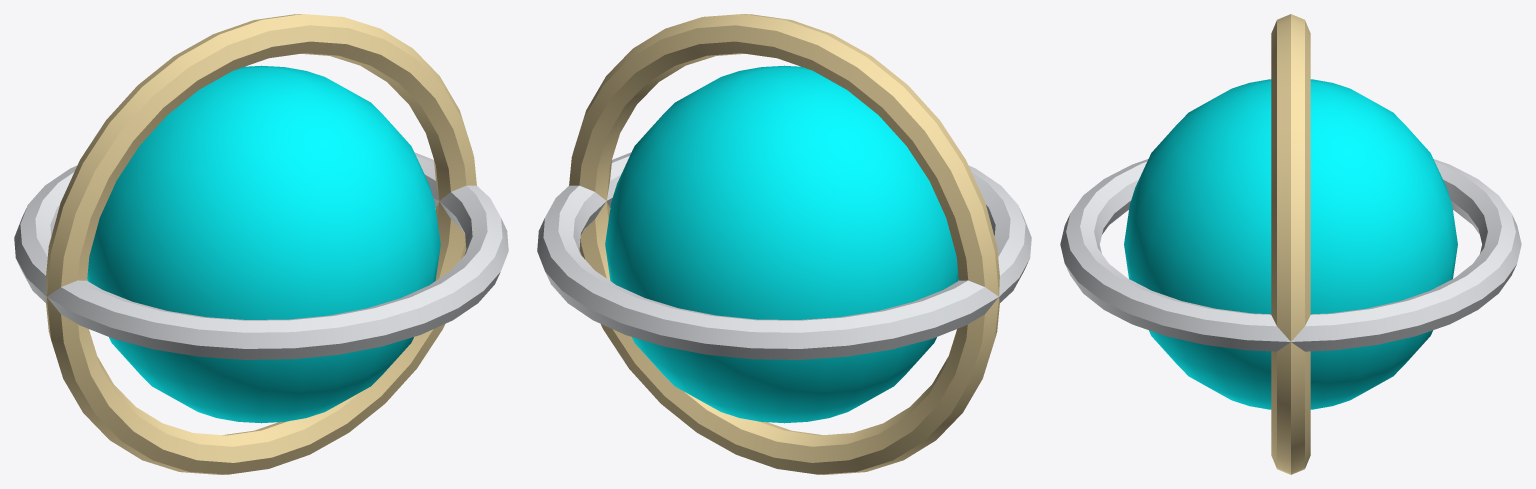
The model's file is quantum_bead.glb.
3 views of the same model, side by side, from view 1: azimuth 30°, elevation 25°; view 2: azimuth 150°, elevation 25°; view 3: azimuth 270°, elevation 25° (orthographic). The views are drawn at different scales.
Parts seen in each view (by area): view 1: Sphere; view 2: Sphere; view 3: Sphere.
Boxes of the visible parts, <box> form: Sphere: <box>14,14,508,474</box>; Sphere: <box>537,14,1031,474</box>; Sphere: <box>1060,14,1521,474</box>.
Bounding box in the file's own units: 1.05 × 1.05 × 1.05.
